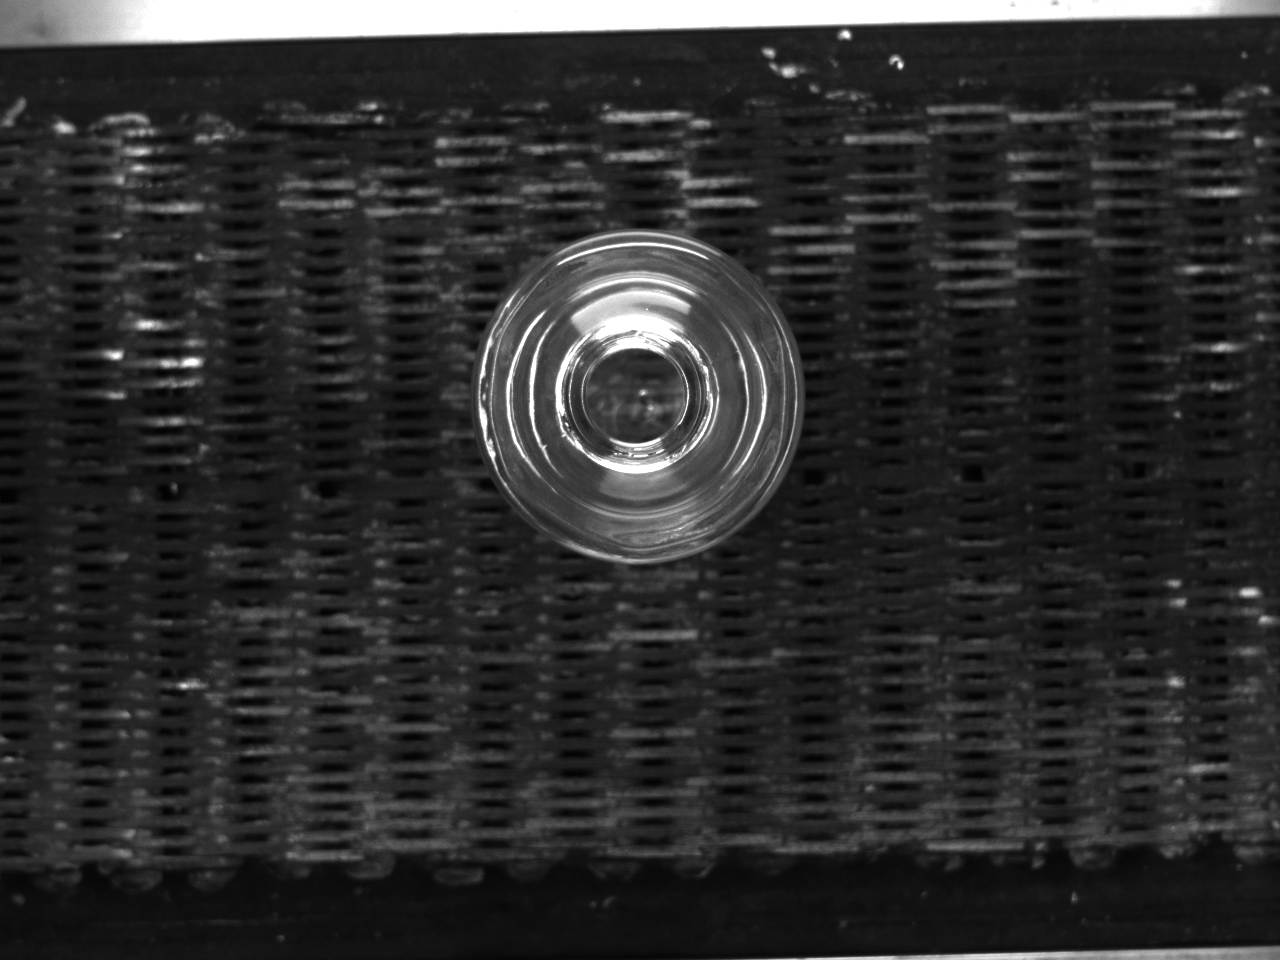bottleneck: (557, 318, 719, 474)
